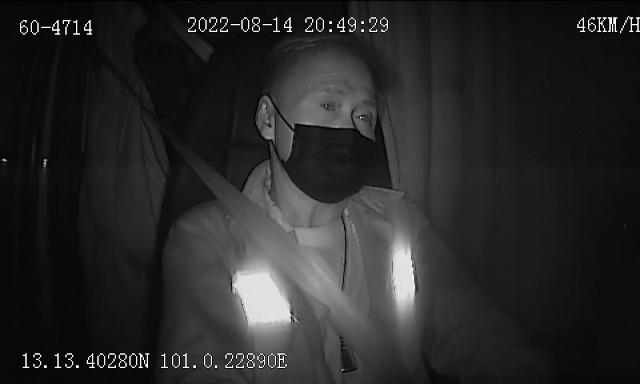SafeDriving: (349, 102, 378, 128), (314, 91, 342, 116)
Seatbelt: (162, 130, 382, 384)
